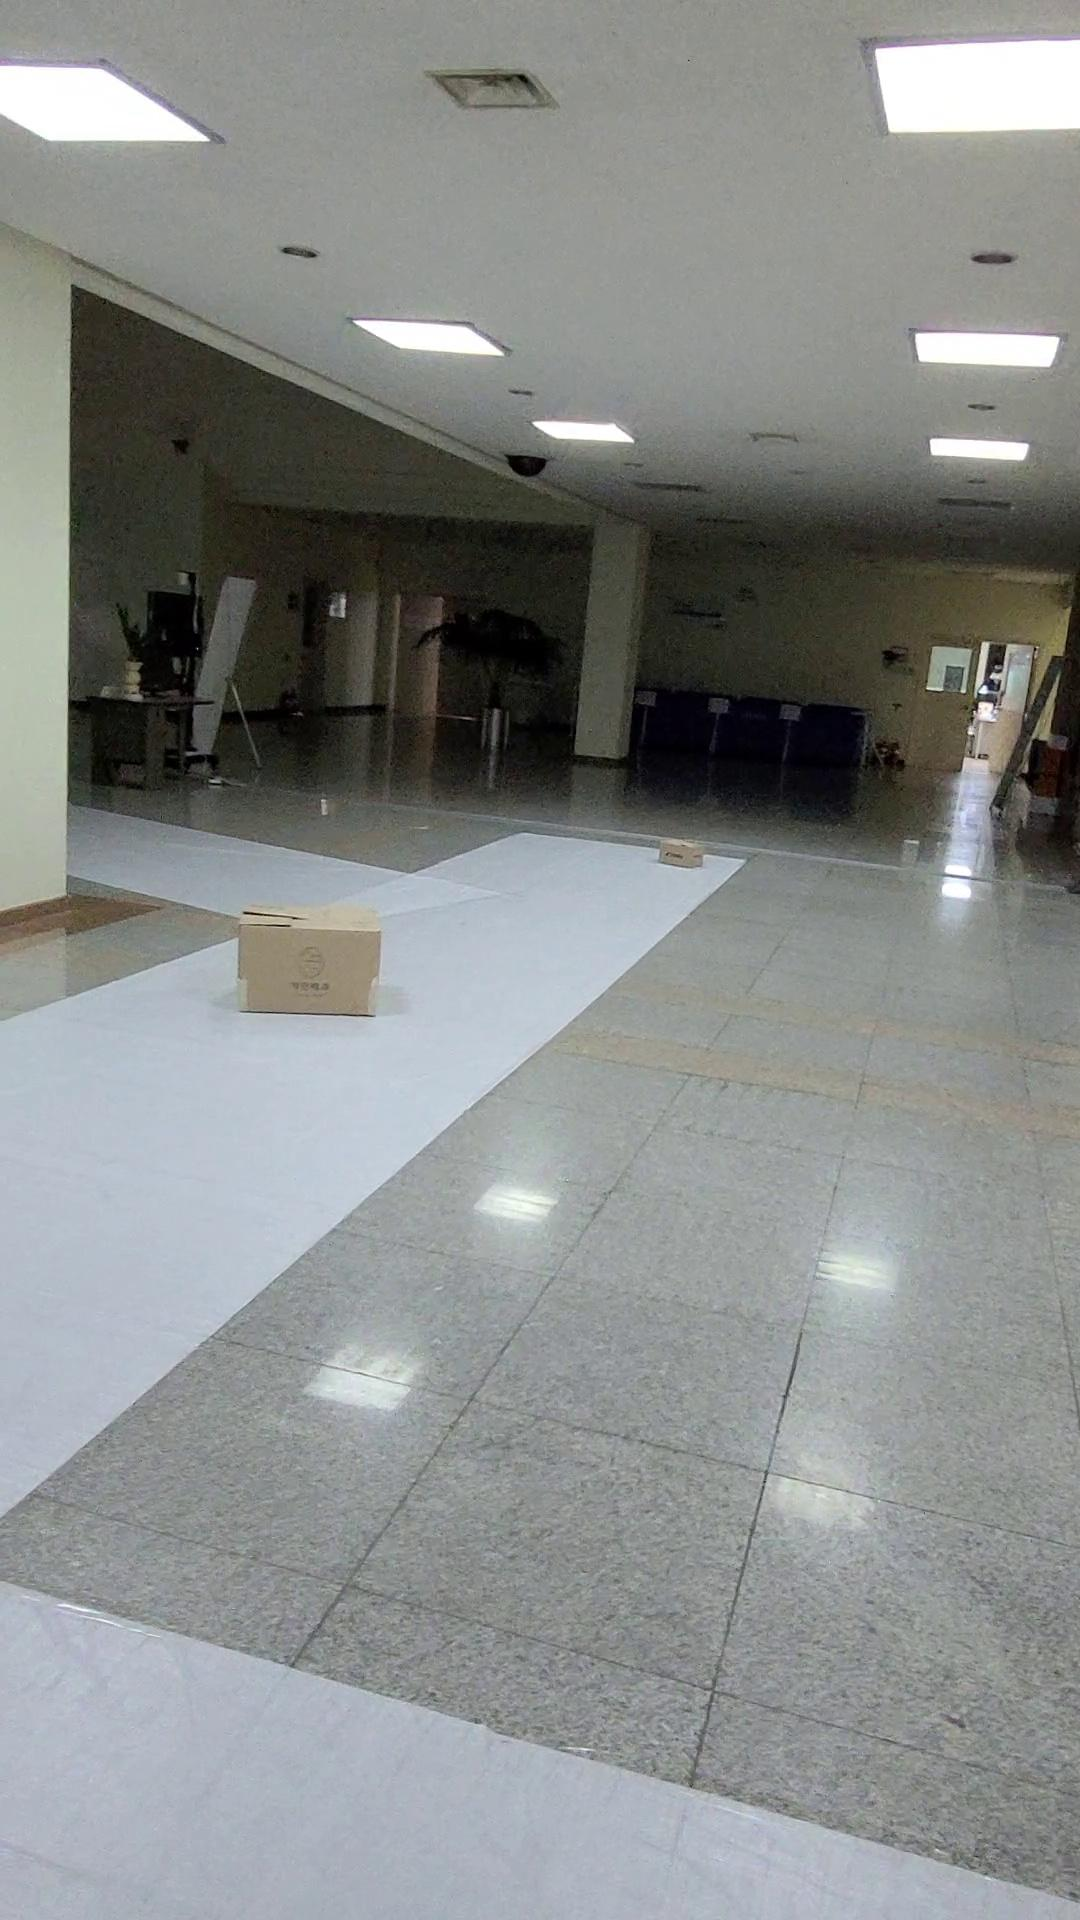Box: (193, 885, 422, 1050), (636, 818, 731, 887)
